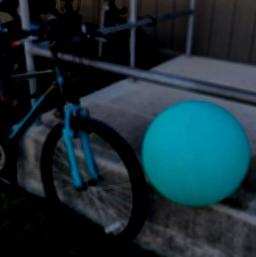algae: (137, 98, 250, 206)
